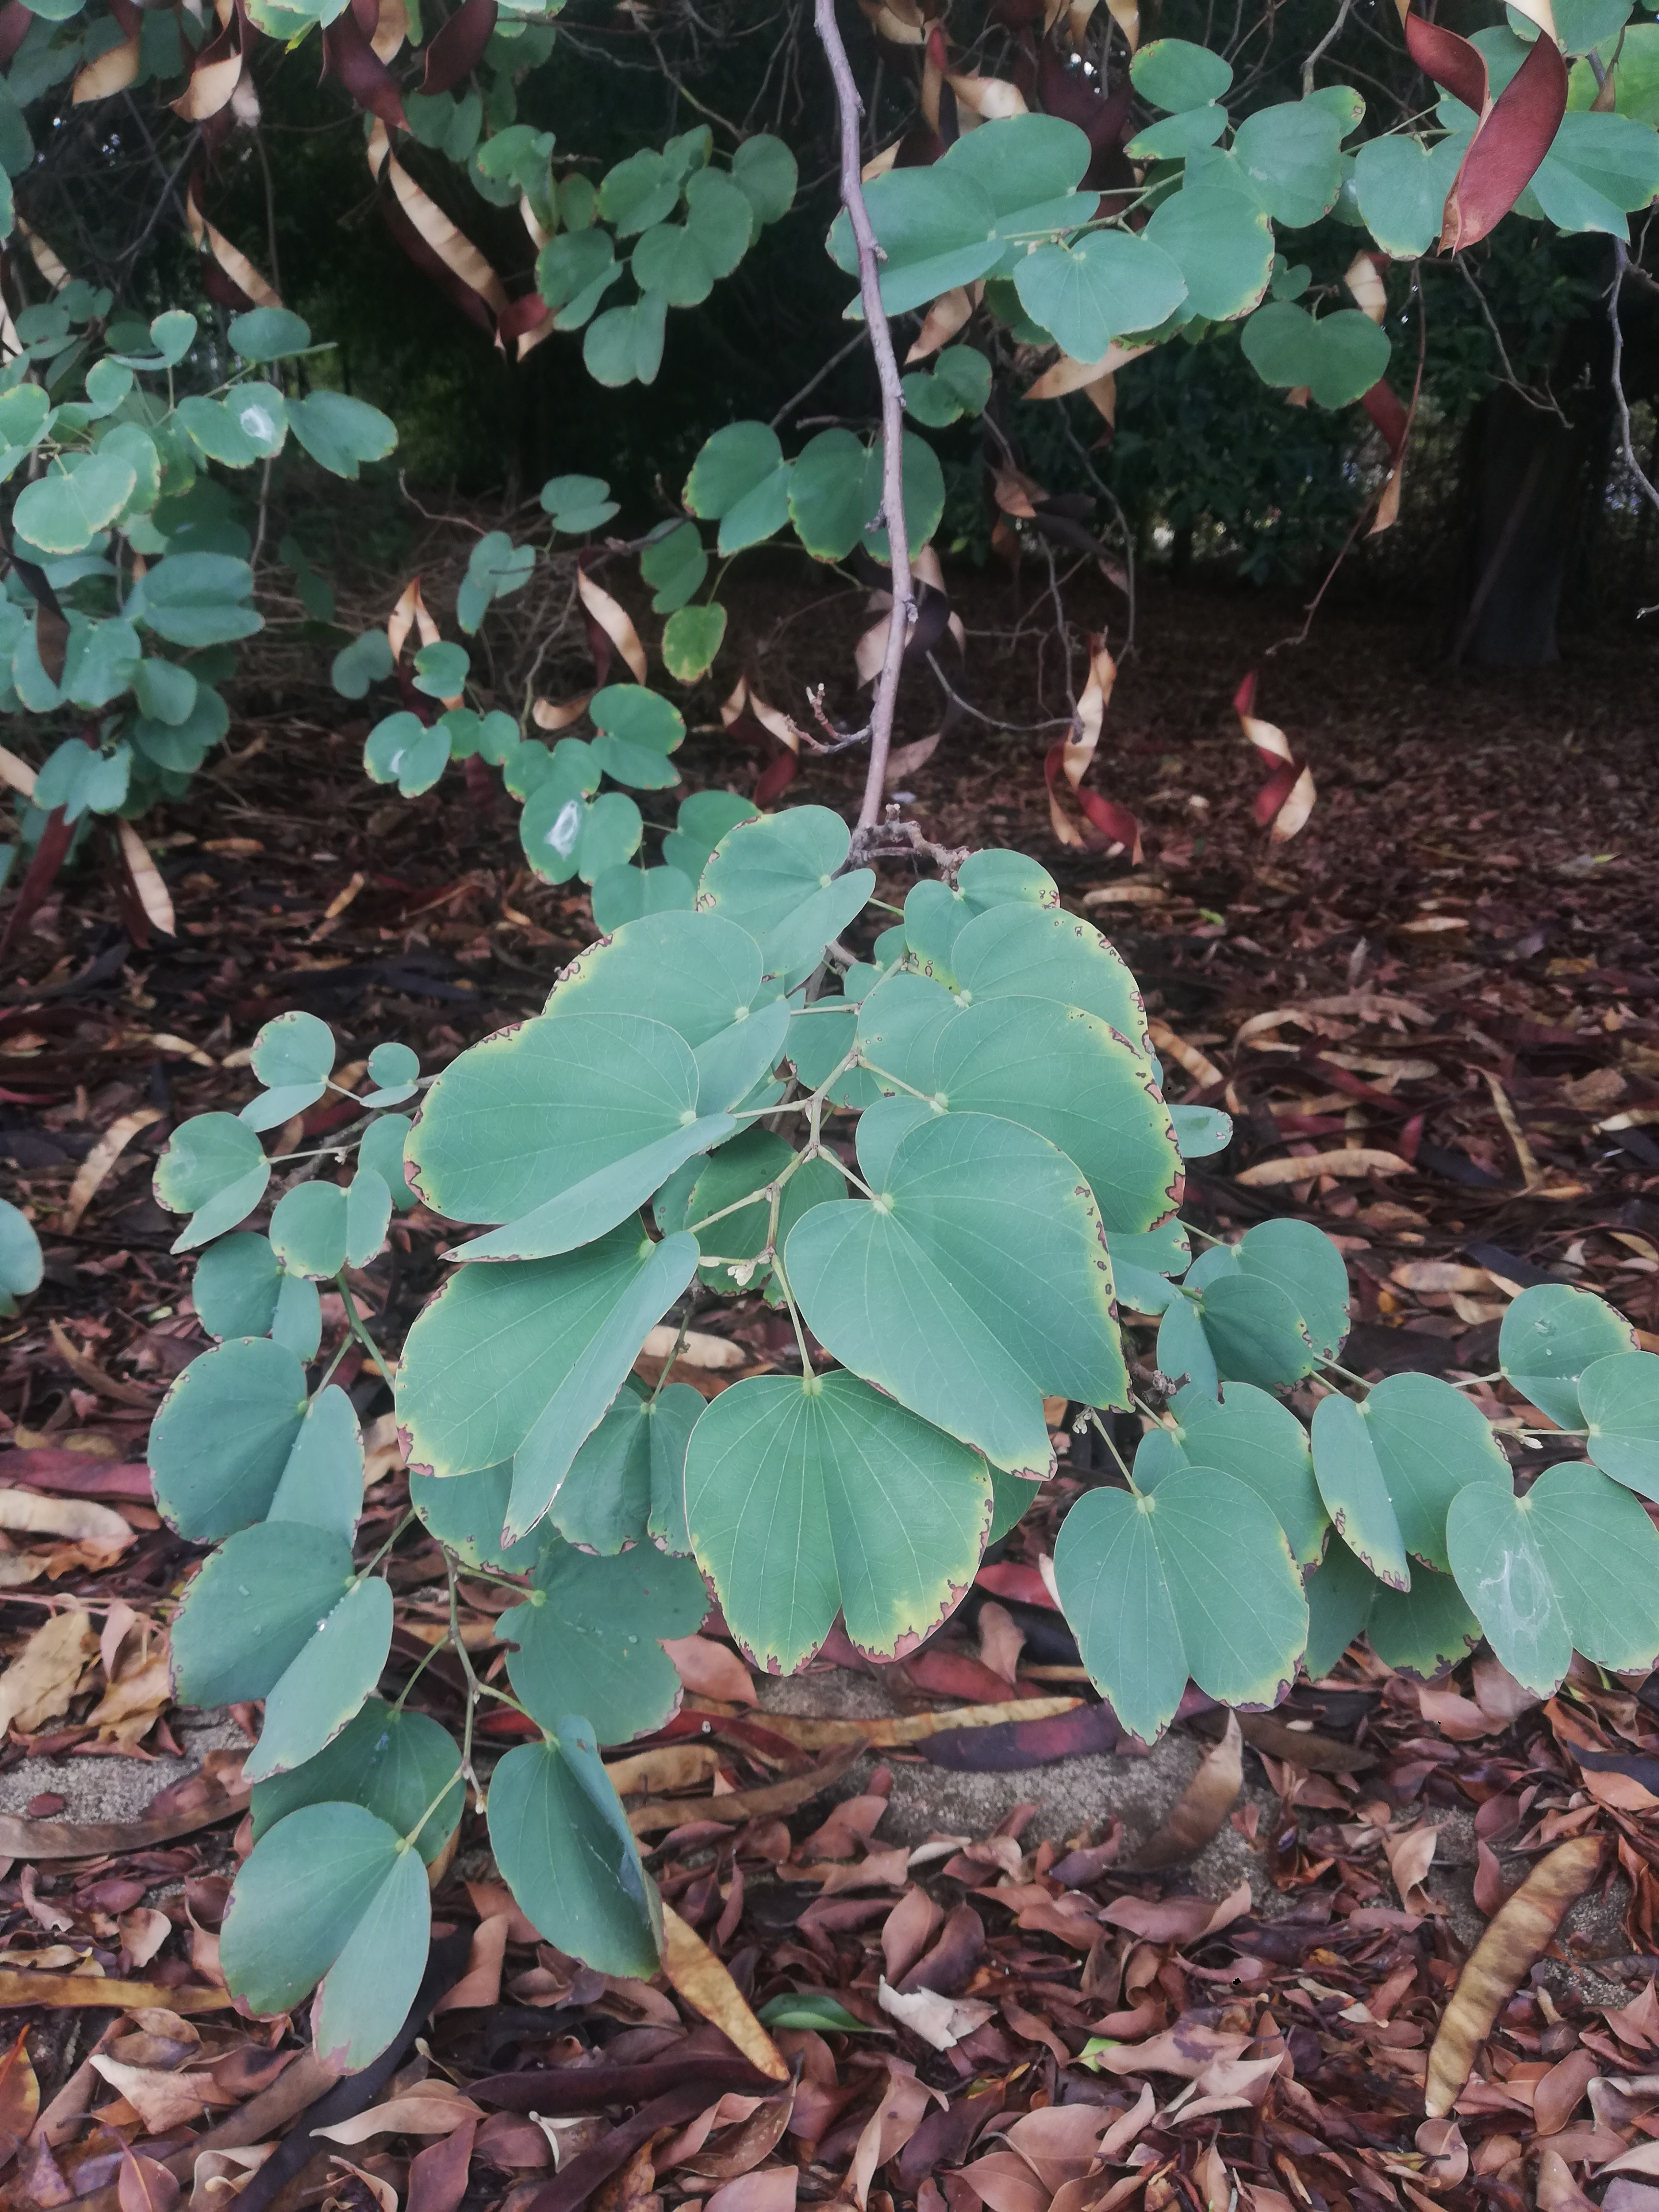nothealthy: (770, 1103, 1141, 1491), (664, 1376, 1004, 1677), (401, 1014, 725, 1270), (856, 1000, 1187, 1244), (1049, 1465, 1310, 1757), (532, 899, 788, 1139)
